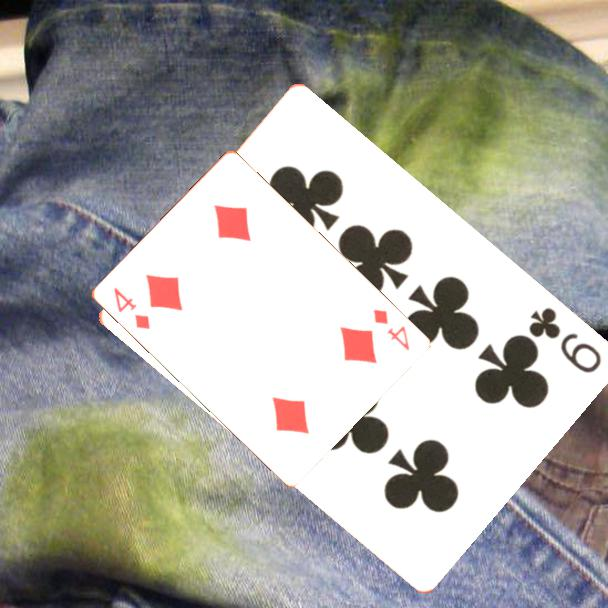c09: (524, 303, 604, 376)
d04: (369, 305, 412, 354), (110, 284, 152, 333)
